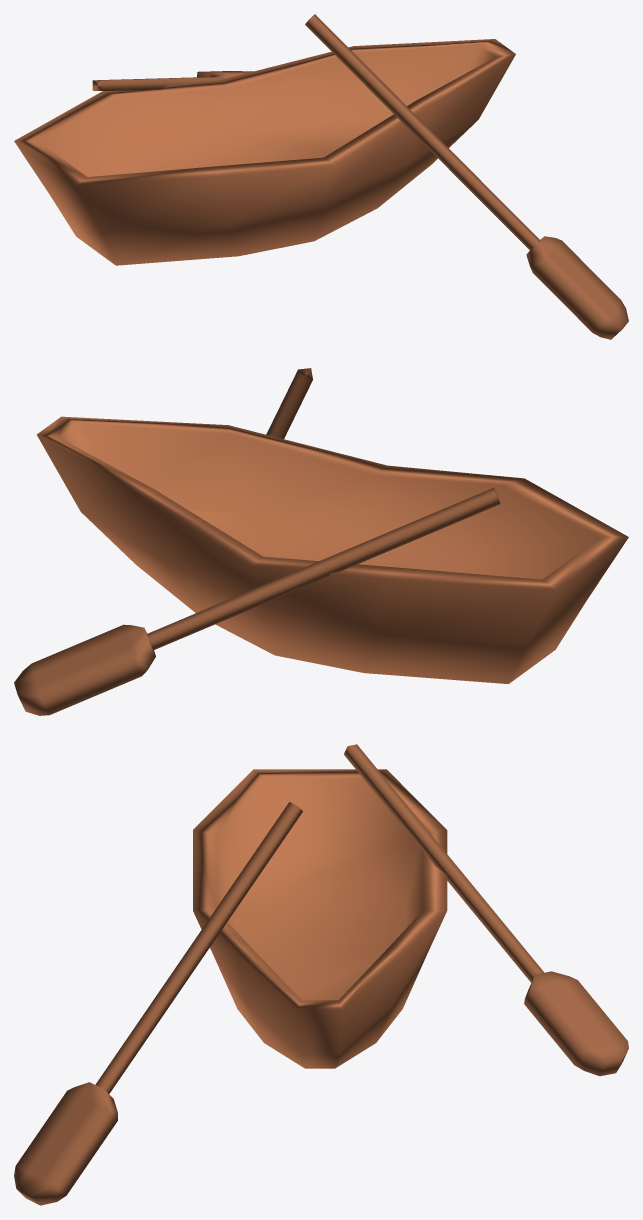
The model's file is Boat_6.fbx.
The picture shows the model from 3 angles, top to bottom: view 1: azimuth 30°, elevation 25°; view 2: azimuth 150°, elevation 25°; view 3: azimuth 270°, elevation 25°; orthographic projection. The views are drawn at different scales.
Parts seen in each view (by area): view 1: Boat_6; view 2: Boat_6; view 3: Boat_6.
Part boxes in pixels (x1,y1,x2,y2): Boat_6: [14, 14, 628, 339]; Boat_6: [14, 368, 628, 715]; Boat_6: [14, 744, 628, 1205].
Size of the model in its own units: 297 by 171 by 315.
Materials: 1 (1 with a texture image).
